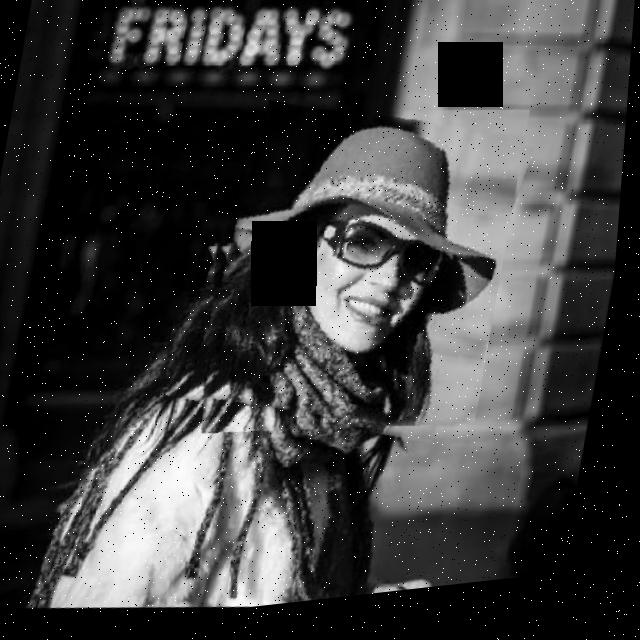happy: (176, 90, 533, 470)
